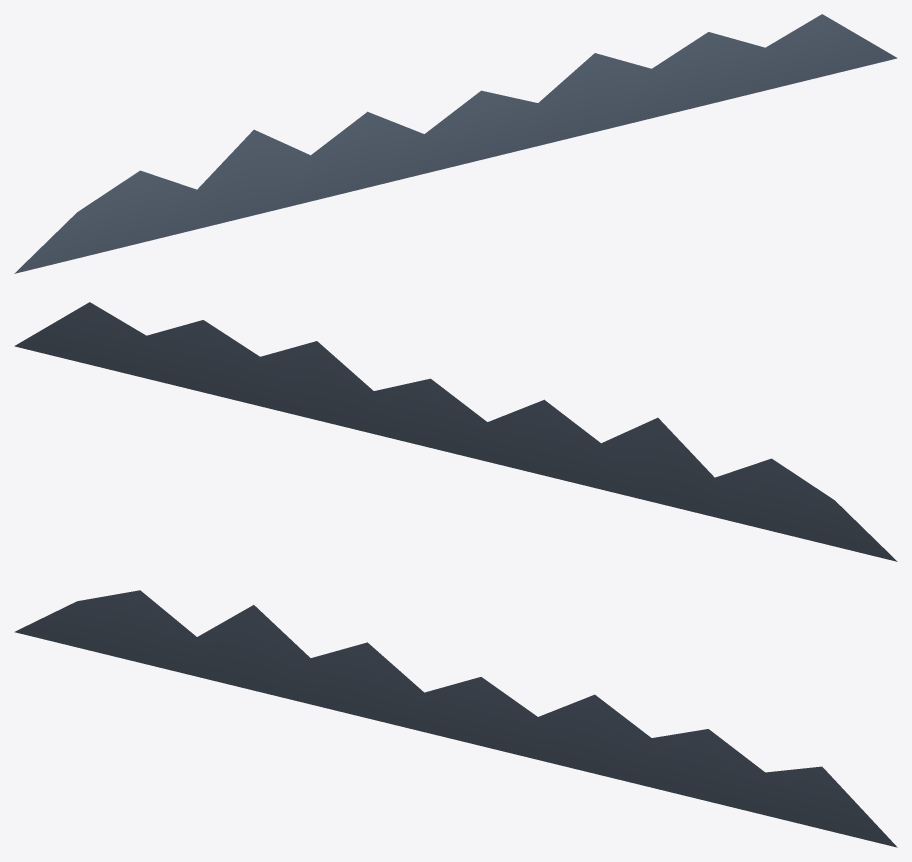
The model's file is bg_mountains_far.glb.
The picture shows the model from 3 angles, top to bottom: view 1: azimuth 30°, elevation 25°; view 2: azimuth 150°, elevation 25°; view 3: azimuth 330°, elevation 25°; orthographic projection.
Bounding box in the file's own units: 2800 × 260 × 0.
